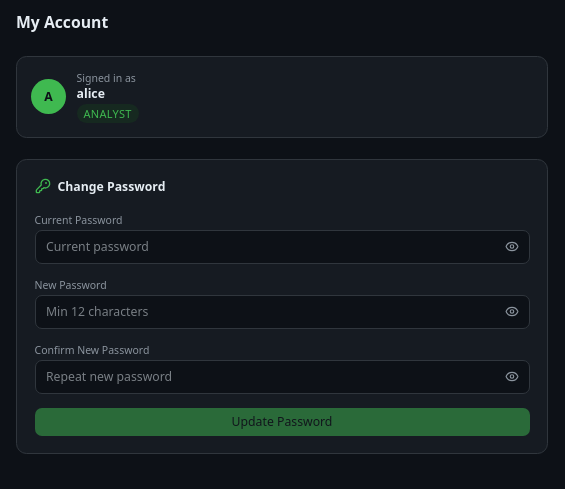
Test: Account page › shows error when confirm does not match
Type "oldpassword123" into the password field with placeholder "Current Password" at (282, 247), box [34,230,530,264]
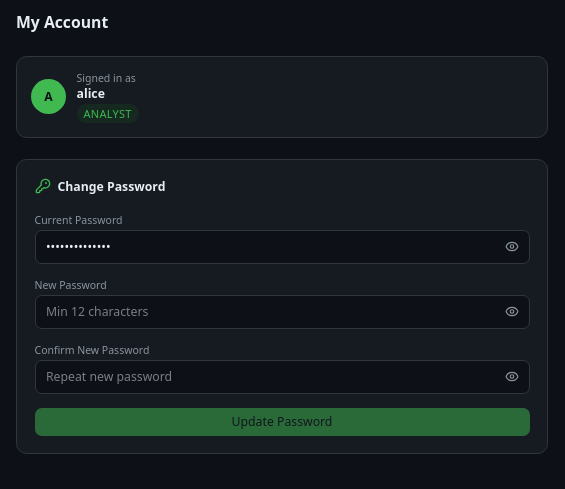
Type "newpassword456!" into the password field with placeholder "Min 12 characters" at (282, 312), box [34,295,530,328]
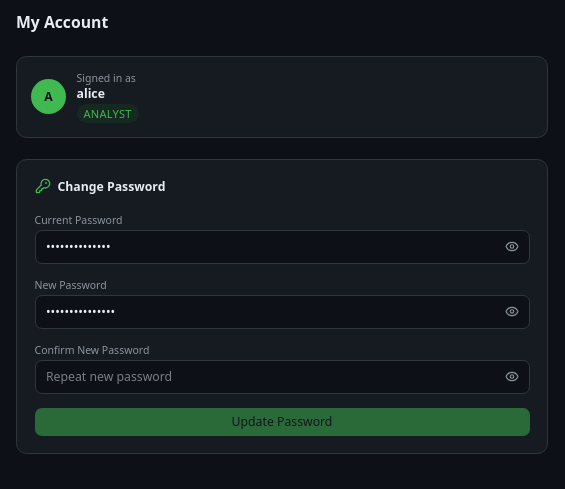
Type "differentpassword" into the password field with placeholder "Repeat new password" at (282, 377), box [34,360,530,394]
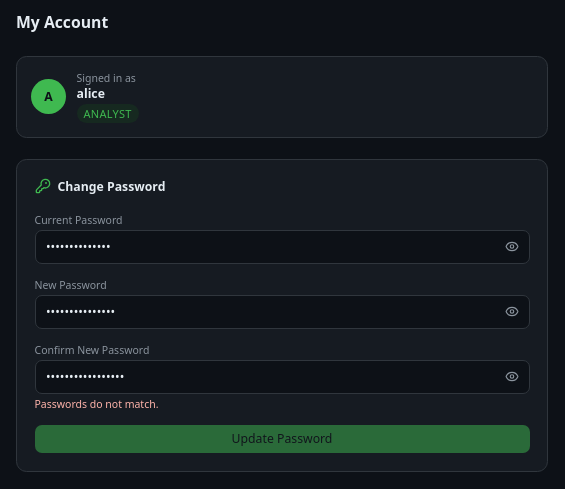
Expected: the text "Passwords do not match." is shown, [34,397,158,411]
